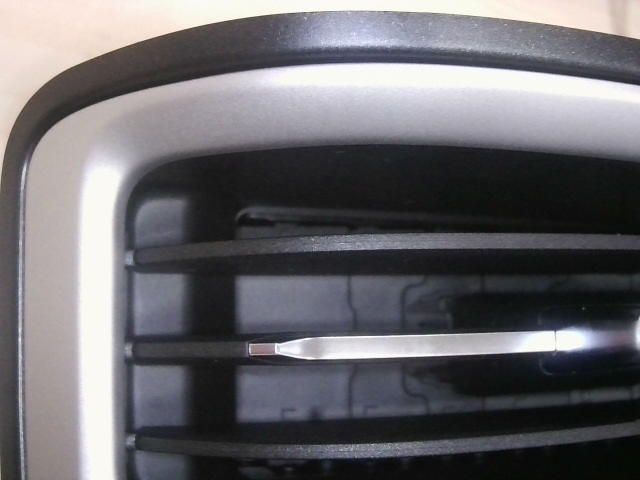NG: (367, 4, 418, 57)
